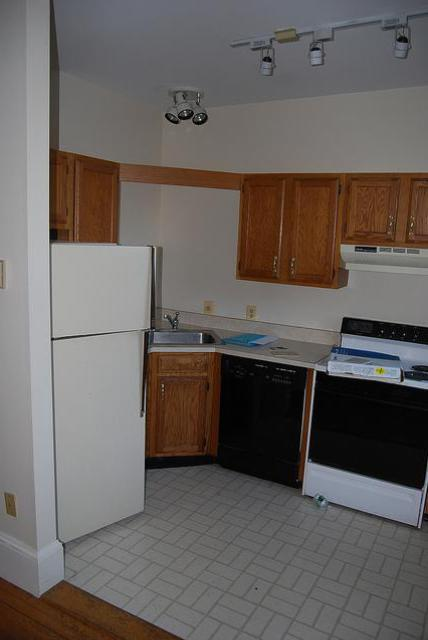Lavaplatos: (144, 304, 227, 352)
